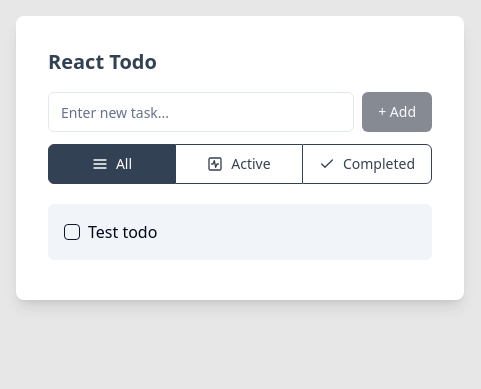
Test: App Component › adds a new todo
The width and height of the screenshot is (481, 389).
Type "New task" into the field with placeholder "Enter new task..." at (201, 112), box [48,92,354,132]
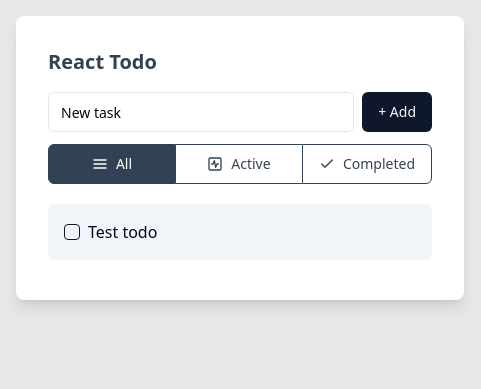
Click the button "+ Add" at (397, 112), box [362,92,432,132]
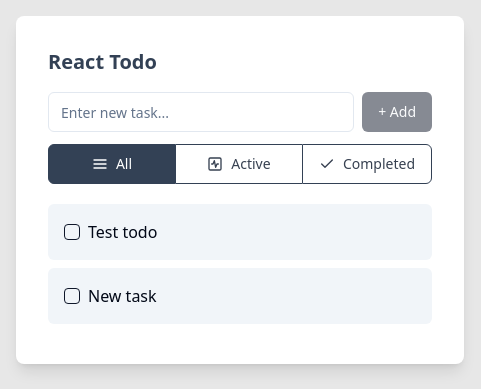
expect the text "New task" is shown: met, box [88,284,157,308]
